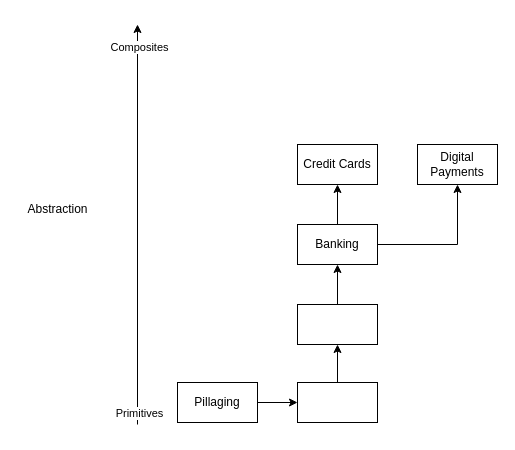
Image size: 515x450. Some labels were removed from this diagram. Each missing label, with the centre of its shape:
"Bartering" goes at [337,402].
"Currency" goes at [337,324].
